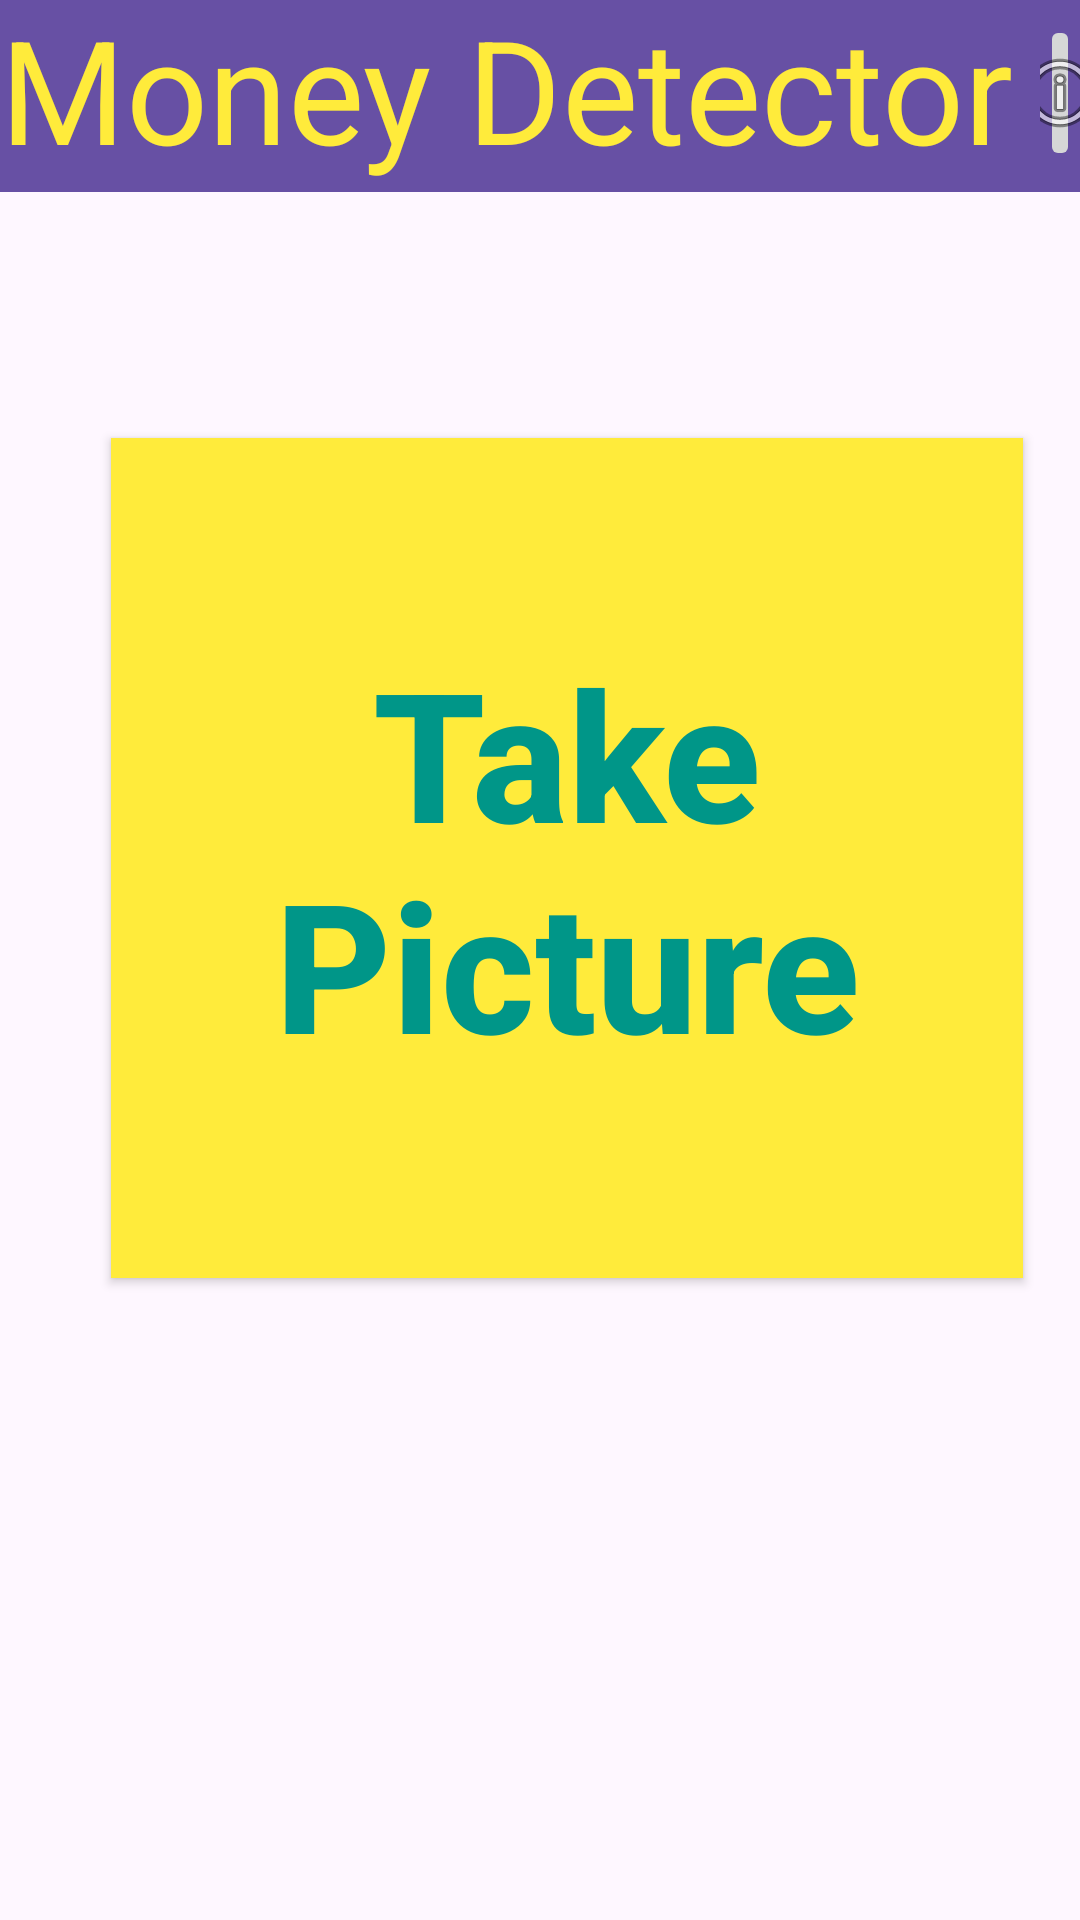

Screen size 1080px×1920px. Icon name, then its center in pixels as point (x, y):
info details: point (1060, 93)
